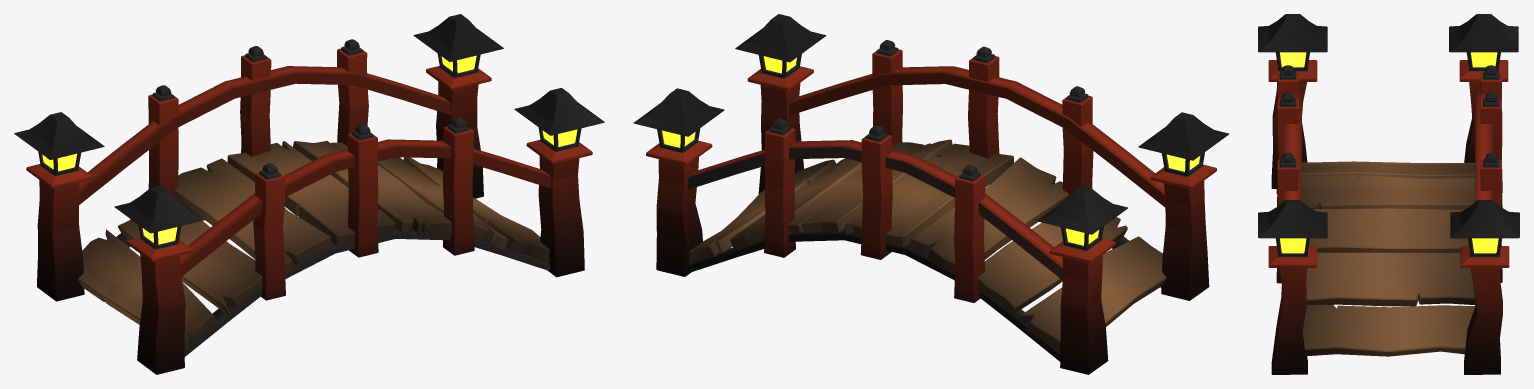
The picture shows the model from 3 angles, left to right: view 1: azimuth 30°, elevation 25°; view 2: azimuth 150°, elevation 25°; view 3: azimuth 270°, elevation 25°; orthographic projection. The views are drawn at different scales.
Parts seen in each view (by area): view 1: Planks_0, Rails_3, Lantern_Post.01_10, Lantern_Post.03_9, Lantern_Post.02_11, Lantern_Post.04_12, Middle_Post.05_7, Middle_Post.02_5, Middle_Post.01_2, Underside_1, Middle_Post.03_4, Middle_Post.04_6 (+1 smaller); view 2: Planks_0, Rails_3, Lantern_Post.03_9, Lantern_Post.01_10, Lantern_Post.04_12, Lantern_Post.02_11, Middle_Post.06_8, Middle_Post.04_6, Middle_Post.03_4, Underside_1, Middle_Post.01_2, Middle_Post.02_5 (+1 smaller); view 3: Planks_0, Lantern_Post.04_12, Lantern_Post.02_11, Lantern_Post.01_10, Lantern_Post.03_9, Rails_3, Middle_Post.03_4, Middle_Post.05_7, Middle_Post.06_8, Middle_Post.01_2, Middle_Post.04_6, Middle_Post.02_5.
Part boxes in pixels (box(x1,y1,x2,y2)): Planks_0: box(78, 141, 549, 347); Rails_3: box(79, 66, 551, 276); Lantern_Post.01_10: box(114, 185, 204, 374); Lantern_Post.03_9: box(14, 112, 104, 301); Lantern_Post.02_11: box(514, 88, 604, 277); Lantern_Post.04_12: box(413, 14, 503, 198); Middle_Post.05_7: box(443, 117, 474, 255); Middle_Post.02_5: box(253, 163, 285, 300); Middle_Post.01_2: box(347, 124, 378, 257); Underside_1: box(116, 229, 549, 356); Middle_Post.03_4: box(240, 46, 271, 156); Middle_Post.04_6: box(148, 85, 178, 196); Planks_0: box(689, 139, 1166, 352); Rails_3: box(688, 66, 1165, 279); Lantern_Post.03_9: box(1037, 186, 1127, 374); Lantern_Post.01_10: box(1138, 112, 1228, 300); Lantern_Post.04_12: box(633, 88, 724, 276); Lantern_Post.02_11: box(735, 14, 826, 194); Middle_Post.06_8: box(764, 118, 795, 257); Middle_Post.04_6: box(954, 165, 985, 302); Middle_Post.03_4: box(860, 125, 892, 259); Underside_1: box(689, 229, 1161, 361); Middle_Post.01_2: box(968, 46, 999, 158); Middle_Post.02_5: box(1062, 86, 1093, 195); Planks_0: box(1302, 161, 1475, 356); Lantern_Post.04_12: box(1450, 200, 1519, 374); Lantern_Post.02_11: box(1258, 200, 1327, 374); Lantern_Post.01_10: box(1258, 14, 1327, 188); Lantern_Post.03_9: box(1449, 14, 1518, 162); Rails_3: box(1284, 92, 1492, 201); Middle_Post.03_4: box(1480, 92, 1502, 207); Middle_Post.05_7: box(1276, 153, 1298, 283); Middle_Post.06_8: box(1480, 153, 1502, 282); Middle_Post.01_2: box(1277, 92, 1298, 206); Middle_Post.04_6: box(1480, 65, 1502, 193); Middle_Post.02_5: box(1276, 65, 1298, 193).
Bounding box in the file's own units: 9.62 × 3.88 × 5.03.
Materials: 3 (1 with a texture image).
